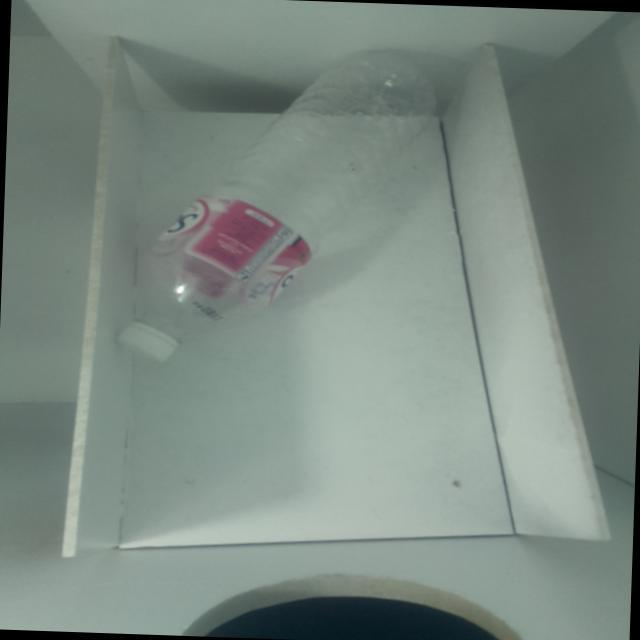good: (94, 21, 476, 388)
